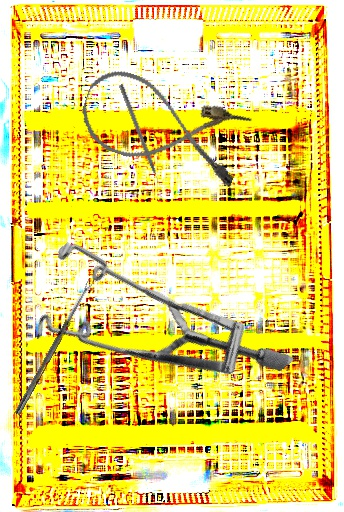Cannula: (72, 62, 255, 192)
Hook Surgical: (117, 83, 165, 193)
Speculum: (2, 176, 296, 478)
Surgical Spoon: (14, 278, 95, 417)
